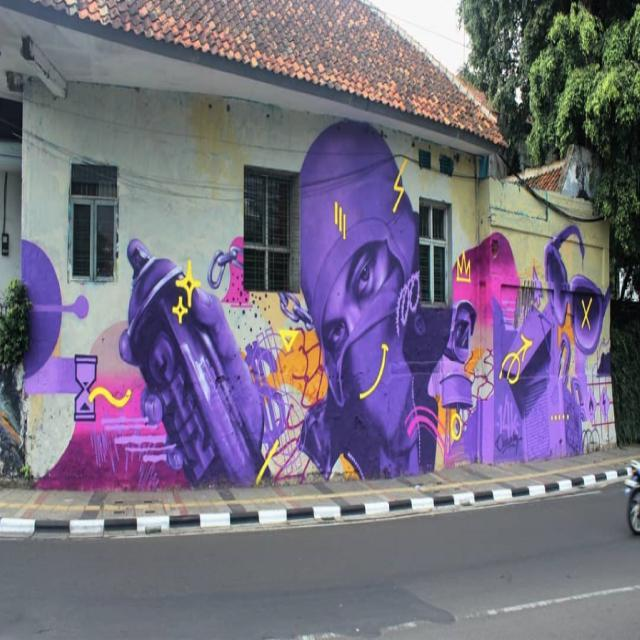-: (22, 118, 613, 491)
